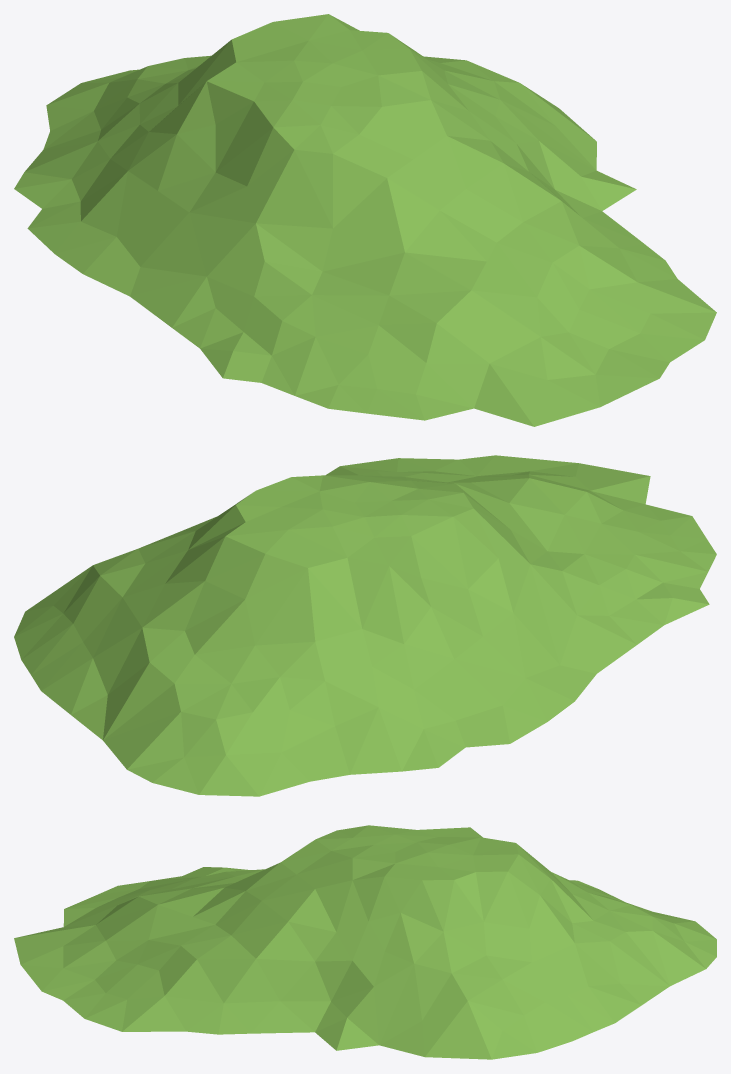
The model's file is MT_Mountain_L_c_15_LOD.fbx.
3 views of the same model, one above another, from view 1: azimuth 30°, elevation 25°; view 2: azimuth 150°, elevation 25°; view 3: azimuth 270°, elevation 25° (orthographic). The views are drawn at different scales.
Visible parts, largest first — view 1: MT_Mountain_L_c_15_LOD0; view 2: MT_Mountain_L_c_15_LOD0; view 3: MT_Mountain_L_c_15_LOD0.
Boxes of the visible parts, x1,y1,x2,y2 form: MT_Mountain_L_c_15_LOD0: (14,14,716,426); MT_Mountain_L_c_15_LOD0: (14,455,716,796); MT_Mountain_L_c_15_LOD0: (14,825,716,1059).
Size of what is drawn, in the model's own units: 3363 by 902 by 5123.
